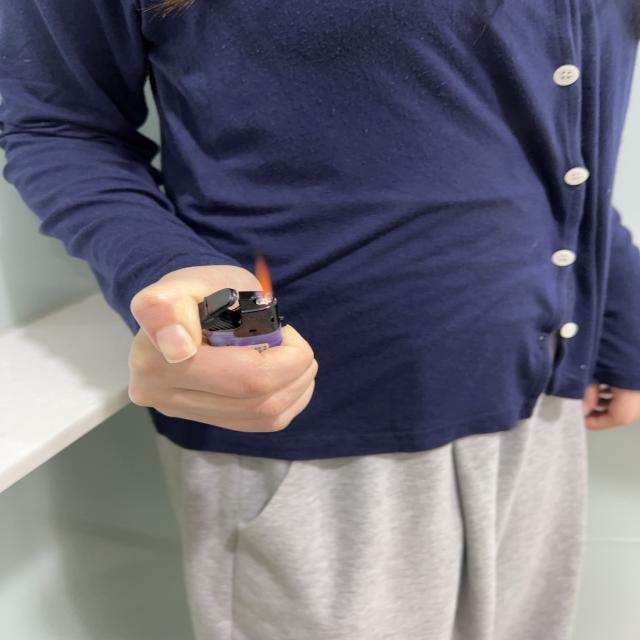fire: (255, 250, 273, 298)
